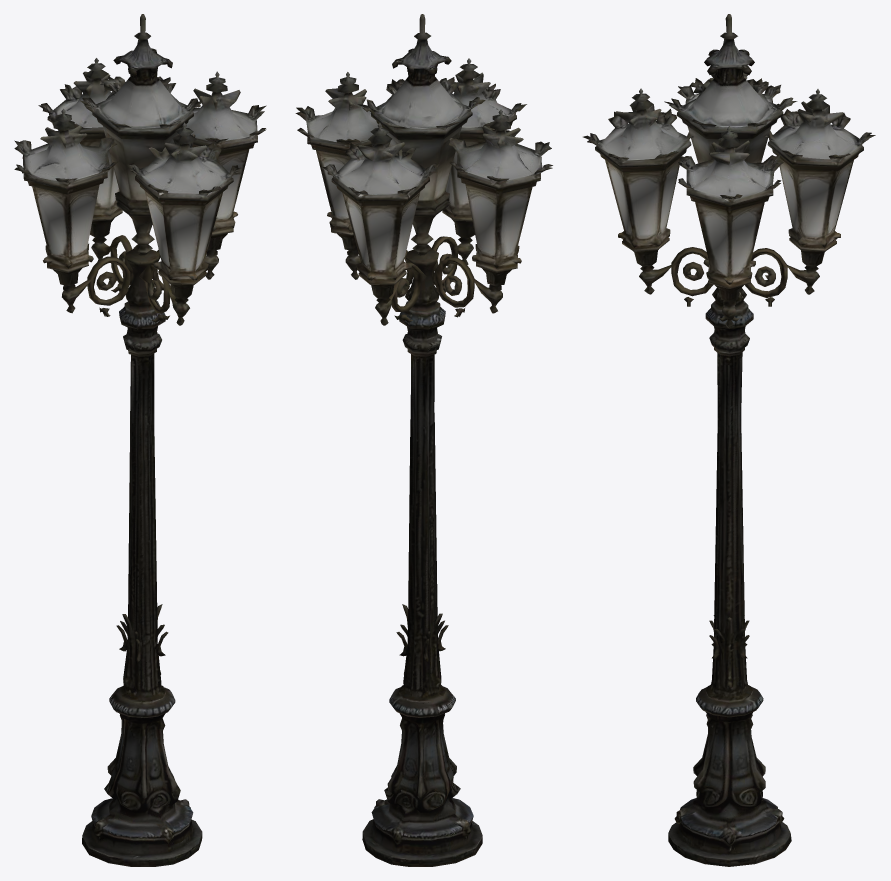
Rendered from lamp.glb.
3 views of the same model, side by side, from view 1: azimuth 30°, elevation 25°; view 2: azimuth 150°, elevation 25°; view 3: azimuth 270°, elevation 25° (orthographic).
Visible parts, largest first — view 1: tripo_node_e2ab1a49-8582-490a-9e05-7aaabca61fbe; view 2: tripo_node_e2ab1a49-8582-490a-9e05-7aaabca61fbe; view 3: tripo_node_e2ab1a49-8582-490a-9e05-7aaabca61fbe.
Boxes of the visible parts, box(x1,y1,x2,y2) form: tripo_node_e2ab1a49-8582-490a-9e05-7aaabca61fbe: box(14, 14, 266, 866); tripo_node_e2ab1a49-8582-490a-9e05-7aaabca61fbe: box(295, 14, 552, 866); tripo_node_e2ab1a49-8582-490a-9e05-7aaabca61fbe: box(583, 14, 875, 866).
Bounding box in the file's own units: 0.3228 × 0.9995 × 0.3228.
Materials: 1 (1 with a texture image).
